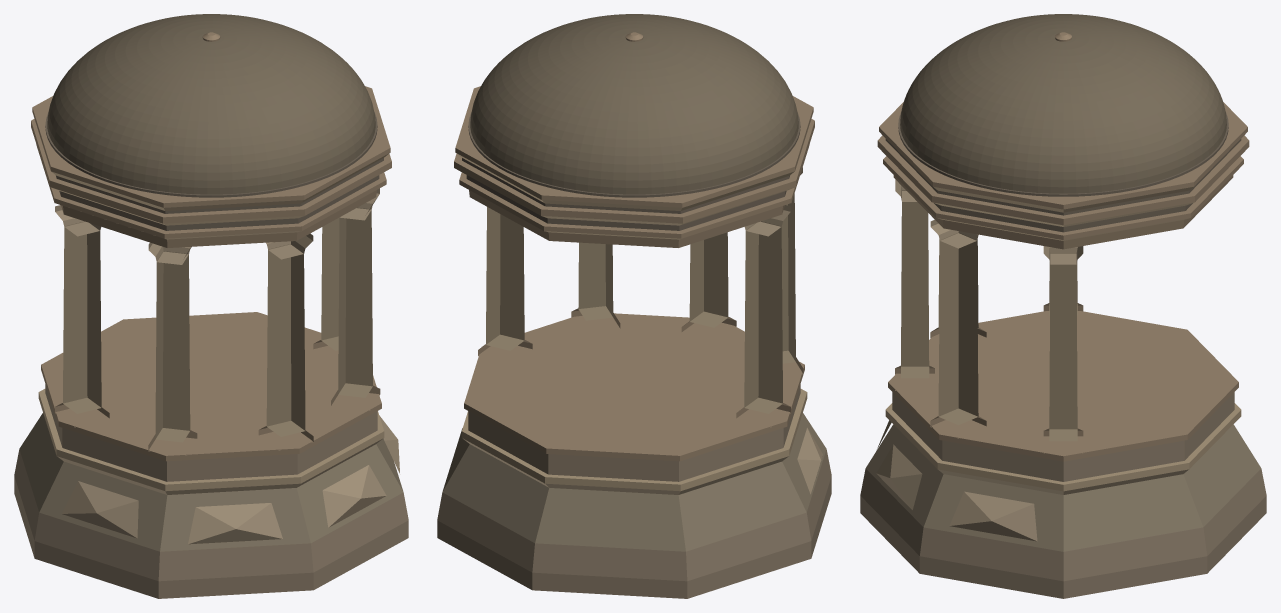
Rendered from huangpu-taichang-furniture-rooftop-lantern-raw.glb.
3 views of the same model, side by side, from view 1: azimuth 30°, elevation 25°; view 2: azimuth 150°, elevation 25°; view 3: azimuth 270°, elevation 25° (orthographic).
Parts seen in each view (by area): view 1: 泰昌木器公司转角屋顶亭的穹顶与叠檐; view 2: 泰昌木器公司转角屋顶亭的穹顶与叠檐; view 3: 泰昌木器公司转角屋顶亭的穹顶与叠檐.
Part boxes in pixels (x1,y1,x2,y2): 泰昌木器公司转角屋顶亭的穹顶与叠檐: (14,14,408,598); 泰昌木器公司转角屋顶亭的穹顶与叠檐: (437,14,831,598); 泰昌木器公司转角屋顶亭的穹顶与叠檐: (860,14,1266,598).
Size of the model in its own units: 2.3 by 2.99 by 2.3.
